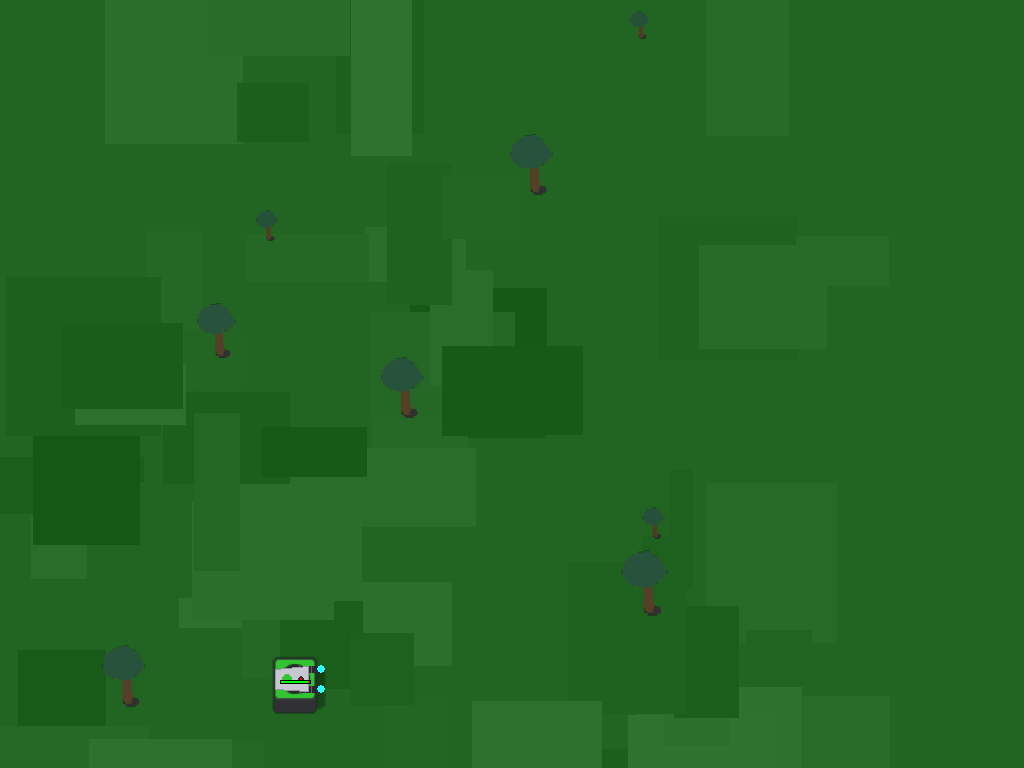Helicopter: (263, 647, 327, 711)
